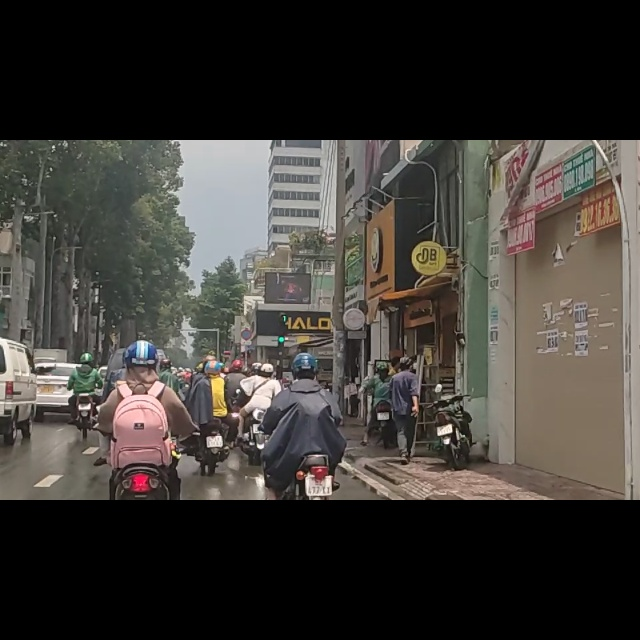bien_cam: (241, 333, 253, 356)
